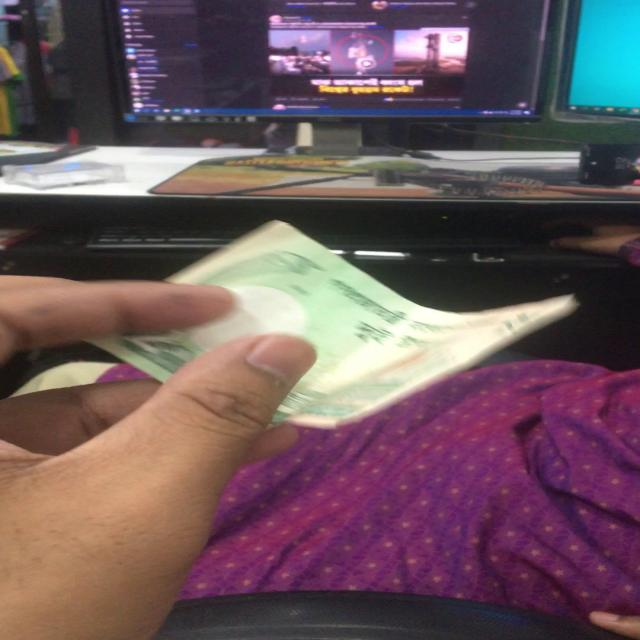Taka: (96, 209, 593, 431)
